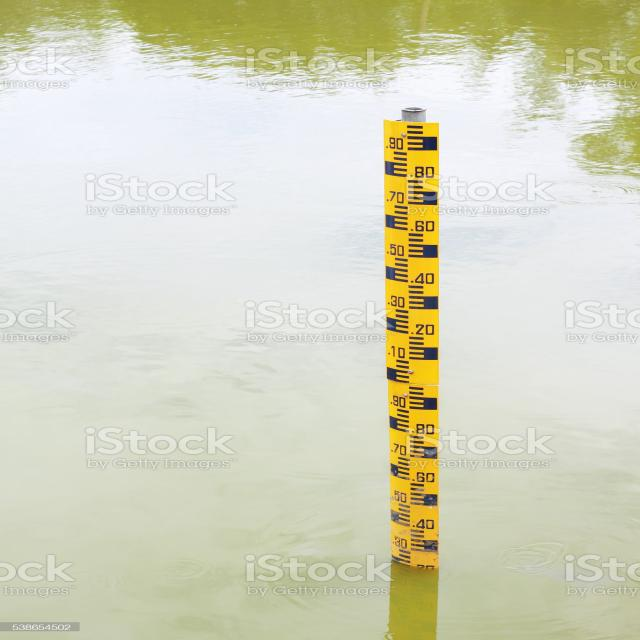staff: (382, 128, 452, 564)
